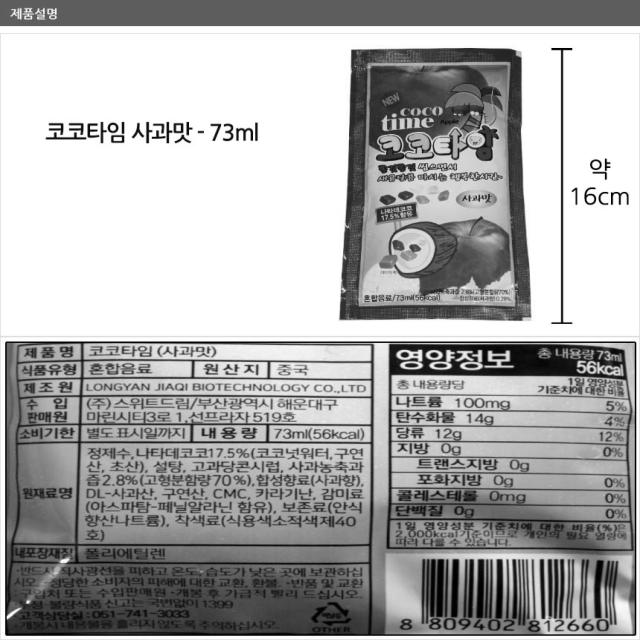Nutrition Label: (376, 331, 640, 558)
